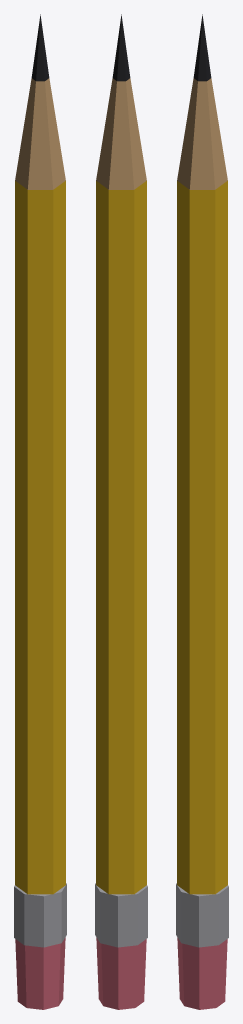
Rendered from Tool_Pencil.fbx.
The picture shows the model from 3 angles, left to right: view 1: azimuth 30°, elevation 25°; view 2: azimuth 150°, elevation 25°; view 3: azimuth 330°, elevation 25°; orthographic projection.
Parts seen in each view (by area): view 1: Tool_Pencil; view 2: Tool_Pencil; view 3: Tool_Pencil.
Boxes of the visible parts, x1,y1,x2,y2 form: Tool_Pencil: (14, 14, 66, 1009); Tool_Pencil: (95, 14, 147, 1009); Tool_Pencil: (176, 14, 228, 1009).
Bounding box in the file's own units: 0.0698 × 1.54 × 0.072.
